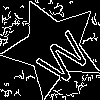W: (28, 22, 95, 88)
